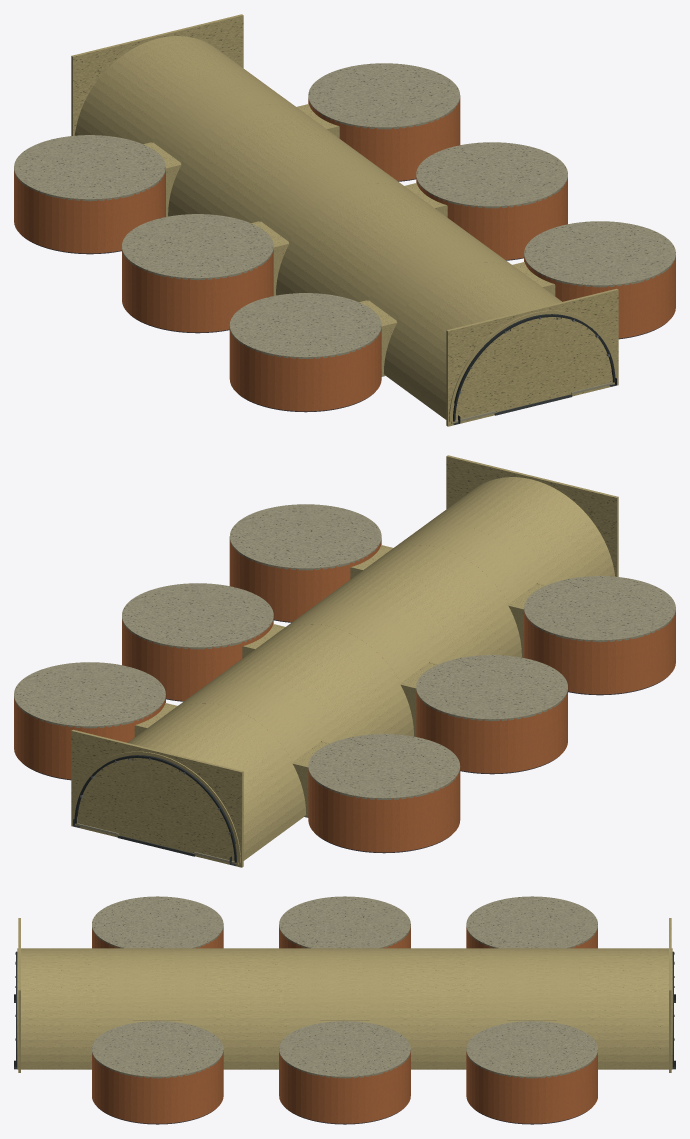
The model's file is LobbyReimaginedPreview.fbx.
3 views of the same model, one above another, from view 1: azimuth 30°, elevation 25°; view 2: azimuth 150°, elevation 25°; view 3: azimuth 270°, elevation 25° (orthographic). The views are drawn at different scales.
Parts seen in each view (by area): view 1: QueueRoom.009, QueueRoom.007, QueueRoom.008, EndBackstop.003, QueueRoom.010, QueueRoom.011, QueueRoom.012, PlainShell.005, PlainShell.006, PlainShell.007, PlainShell.008, PortalShell.004 (+7 smaller); view 2: QueueRoom.007, QueueRoom.009, QueueRoom.008, EndBackstop.004, QueueRoom.012, QueueRoom.011, QueueRoom.010, PlainShell.008, PlainShell.006, PlainShell.007, PlainShell.005, PortalShell.006 (+7 smaller); view 3: QueueRoom.010, QueueRoom.012, QueueRoom.011, PlainShell.005, PlainShell.008, PlainShell.006, PlainShell.007, PortalShell.004, PortalShell.006, PortalShell.005, QueueRoom.007, QueueRoom.008 (+3 smaller).
Part boxes in pixels (box(x1,y1,x2,y2)): QueueRoom.009: box(229, 293, 381, 412); QueueRoom.007: box(14, 135, 165, 254); QueueRoom.008: box(122, 214, 273, 333); EndBackstop.003: box(446, 288, 618, 426); QueueRoom.010: box(308, 63, 460, 181); QueueRoom.011: box(416, 142, 567, 260); QueueRoom.012: box(524, 221, 675, 339); PlainShell.005: box(395, 271, 617, 423); PlainShell.006: box(288, 192, 479, 299); PlainShell.007: box(180, 113, 370, 220); PlainShell.008: box(75, 36, 262, 141); PortalShell.004: box(351, 232, 533, 384); QueueRoom.007: box(308, 734, 460, 853); QueueRoom.009: box(524, 576, 675, 695); QueueRoom.008: box(416, 655, 567, 774); EndBackstop.004: box(71, 729, 243, 867); QueueRoom.012: box(229, 504, 381, 622); QueueRoom.011: box(122, 583, 273, 701); QueueRoom.010: box(14, 662, 165, 780); PlainShell.008: box(72, 712, 294, 864); PlainShell.006: box(319, 554, 509, 661); PlainShell.007: box(210, 633, 401, 740); PlainShell.005: box(427, 477, 614, 582); PortalShell.006: box(156, 673, 338, 825); QueueRoom.010: box(466, 1021, 597, 1124); QueueRoom.012: box(92, 1021, 223, 1124); QueueRoom.011: box(279, 1021, 410, 1124); PlainShell.005: box(17, 948, 110, 1069); PlainShell.008: box(579, 948, 672, 1069); PlainShell.006: box(204, 948, 298, 1069); PlainShell.007: box(391, 948, 485, 1069); PortalShell.004: box(111, 948, 204, 1029); PortalShell.006: box(485, 948, 578, 1029); PortalShell.005: box(298, 948, 391, 1028); QueueRoom.007: box(466, 896, 597, 948); QueueRoom.008: box(279, 896, 410, 948).
Bounding box in the file's own units: 18230 × 3900 × 28280.
1 material, 1 textured.
